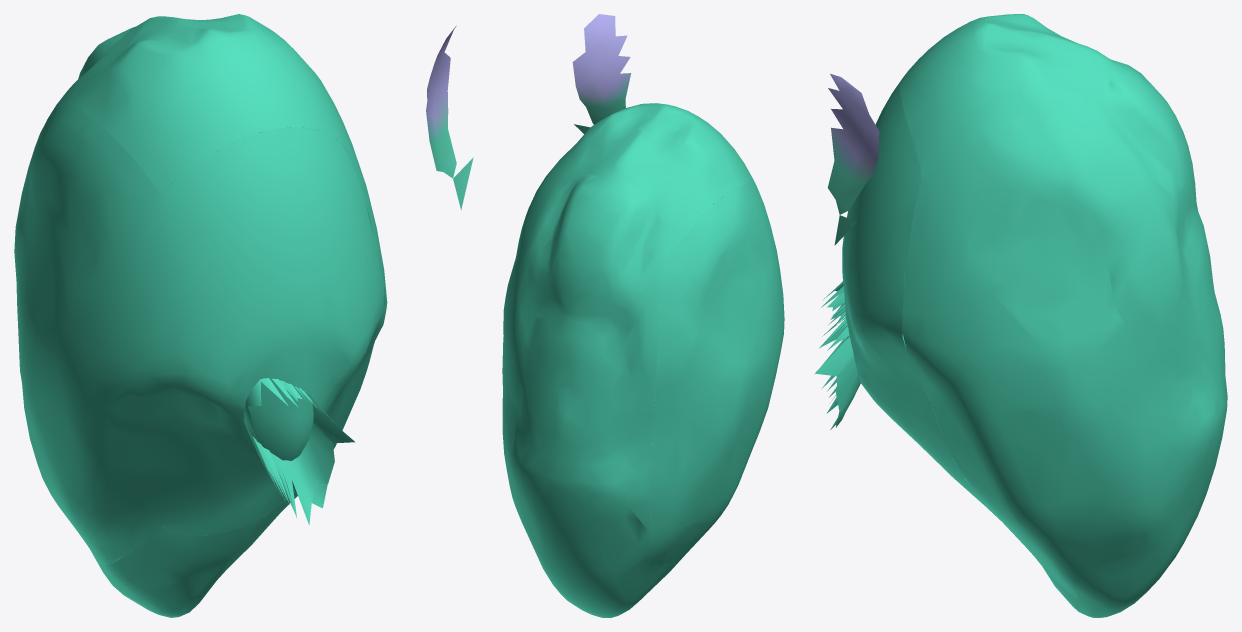
Rendered from Pata_DI.obj.
The picture shows the model from 3 angles, left to right: view 1: azimuth 30°, elevation 25°; view 2: azimuth 150°, elevation 25°; view 3: azimuth 270°, elevation 25°; orthographic projection. The views are drawn at different scales.
Parts seen in each view (by area): view 1: Pata_DI; view 2: Pata_DI; view 3: Pata_DI.
Boxes of the visible parts, bbox=[...] form: Pata_DI: bbox=[14, 14, 473, 617]; Pata_DI: bbox=[502, 14, 784, 617]; Pata_DI: bbox=[814, 14, 1227, 617].
Size of the model in its own units: 33.08 by 61.62 by 38.3.
